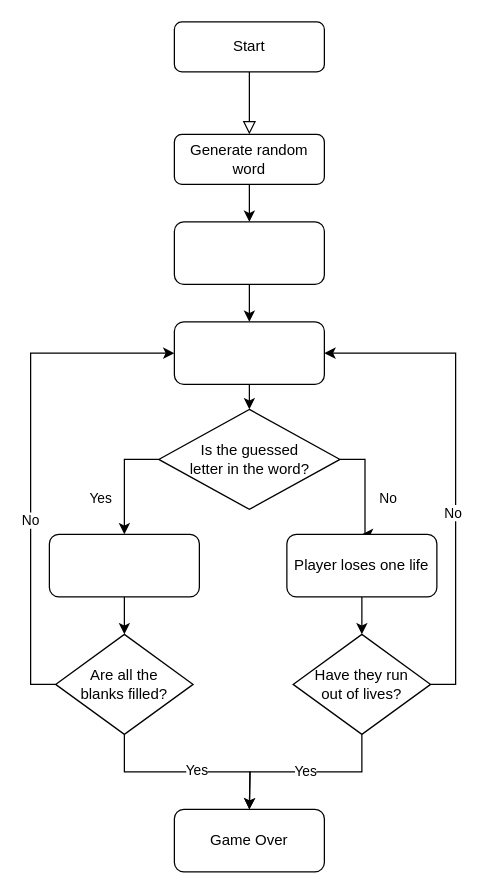
The diagram is 488 pixels wide and 894 high, and some of its shapes have lost their labels. Each missing label, with the centre of its shape:
"Ask user to guess a letter" belongs at (248,352).
"Generate as many blanks as letters in word" belongs at (248,252).
"Replace the blank with the letter" belongs at (123,565).
